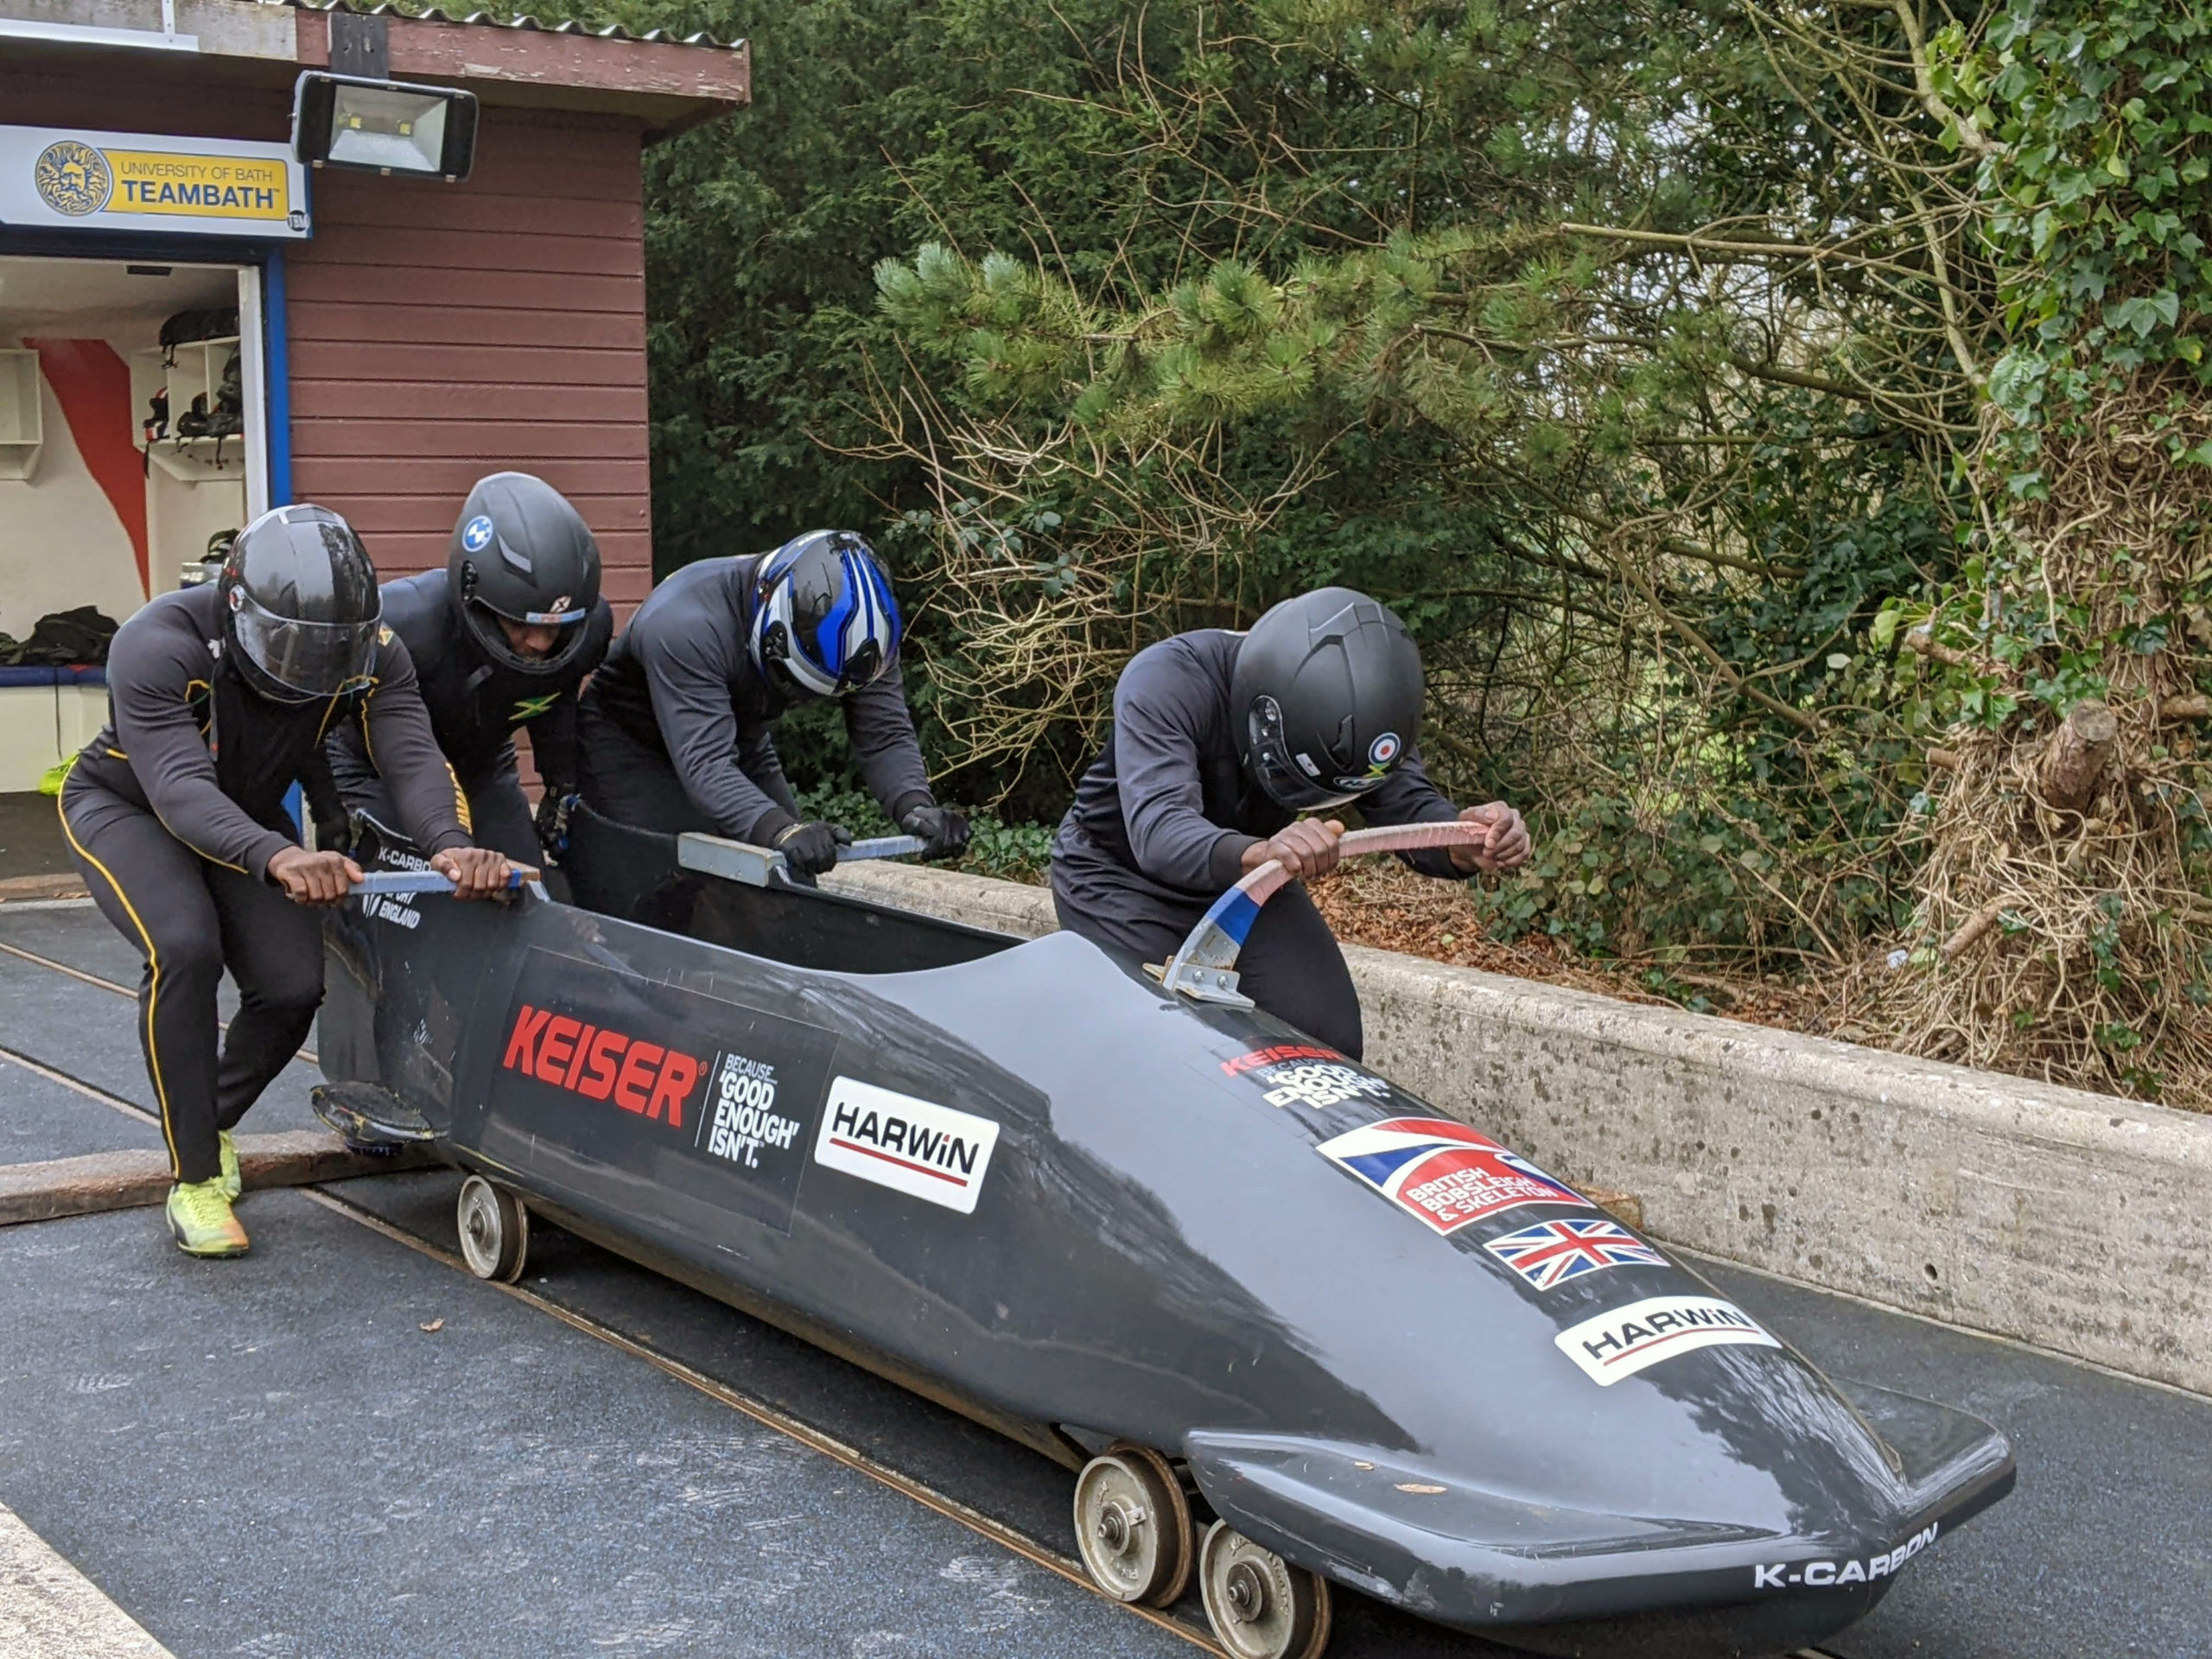Bobsleigh: (329, 836, 2020, 1657)
